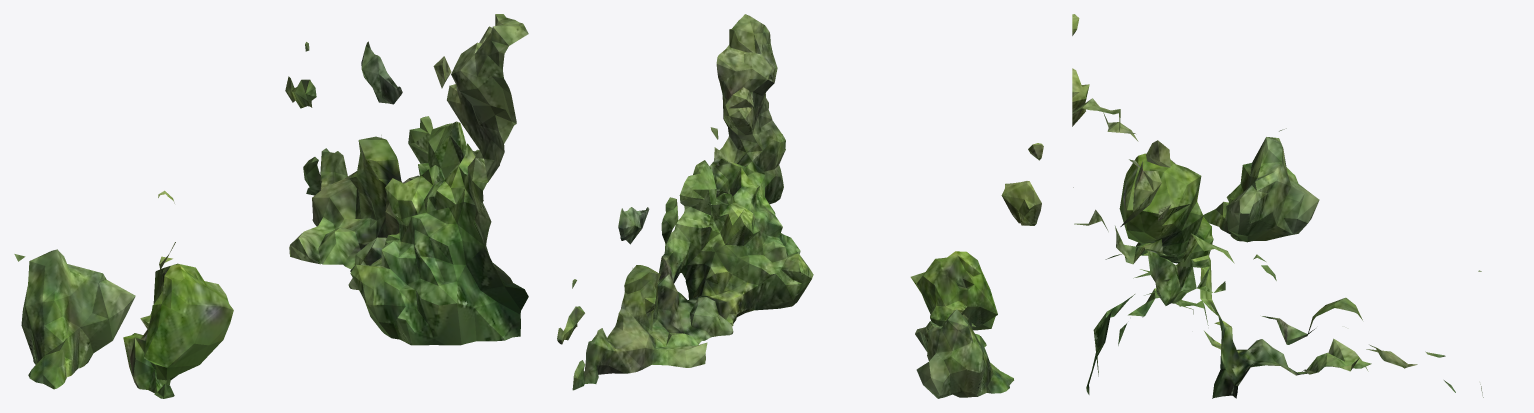
3 renders of one model, left to right at view 1: azimuth 30°, elevation 25°; view 2: azimuth 150°, elevation 25°; view 3: azimuth 270°, elevation 25°, orthographic. The views are drawn at different scales.
Bounding box in the file's own units: 24.34 × 17.81 × 24.85.
2 materials, 2 textured.
